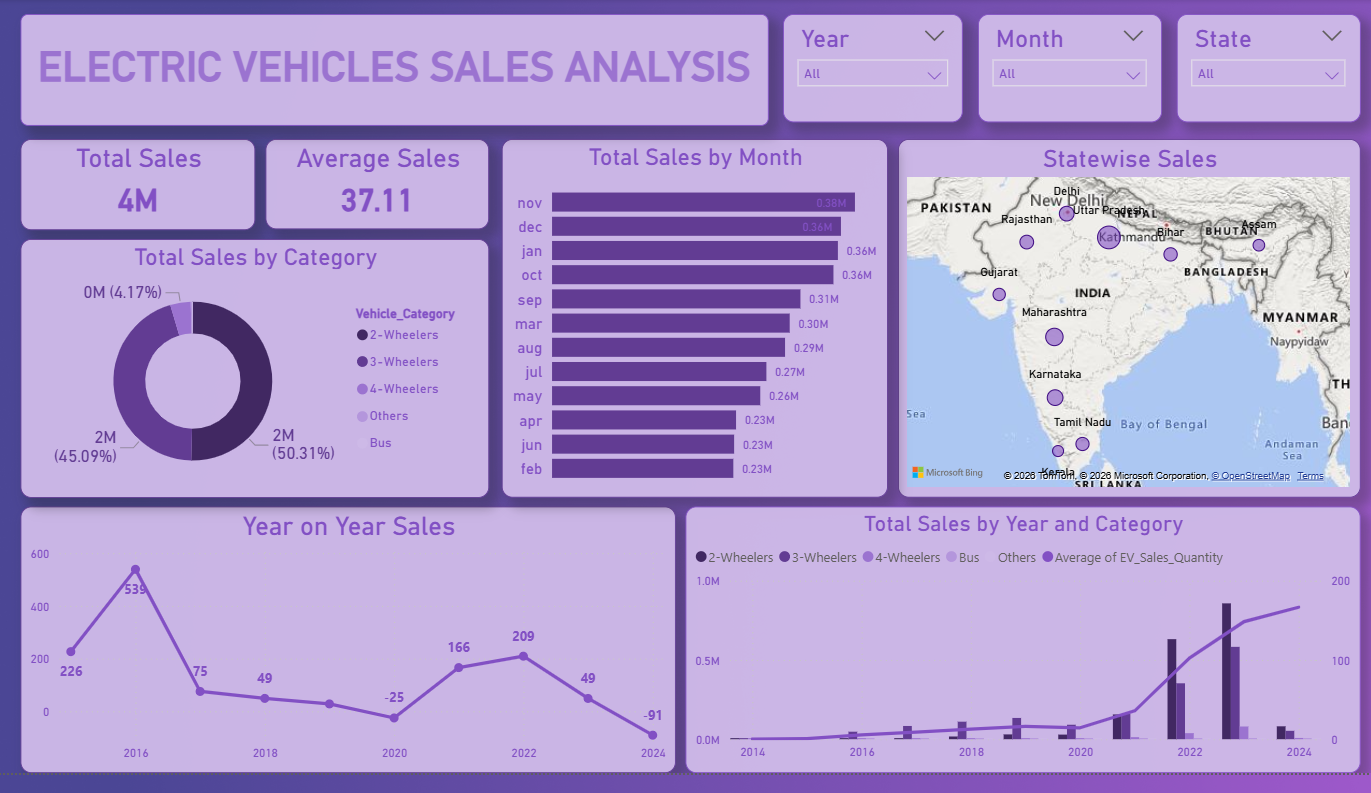

What the dashboard file says about the page in this screenshot:
{"tool":"powerbi","page":{"name":"Page 1","canvas":[1280,720],"ordinal":0},"visuals":[{"type":"card","title":"Total Sales","fields":{"Values":["Sum(ev.EV_Sales_Quantity)"]},"box":[20.9,130.2,218.6,84.9],"z":0},{"type":"card","title":"Average Sales","fields":{"Values":["Avg(ev.EV_Sales_Quantity)"]},"box":[248.8,130.2,208.1,83.7],"z":1000},{"type":"lineChart","title":"Year on Year Sales","fields":{"Category":["ev.Year"],"Y":["ev.YoY %"]},"box":[20.9,472.1,609.3,247.7],"z":2000},{"type":"map","title":"Statewise Sales","fields":{"Category":["ev.State"],"Size":["Sum(ev.EV_Sales_Quantity)"]},"box":[837.2,130.2,430.2,333.7],"z":3000},{"type":"donutChart","title":"Total Sales by Category","fields":{"Y":["Sum(ev.EV_Sales_Quantity)"],"Category":["ev.Vehicle_Category"]},"box":[20.9,223.3,436,240.7],"z":4000},{"type":"barChart","title":"Total Sales by Month","fields":{"Category":["ev.Month_Name"],"Y":["ev.Total_Sales"]},"box":[468.6,130.2,359.3,333.7],"z":5000},{"type":"lineClusteredColumnComboChart","title":"Total Sales by Year and Category","fields":{"Y":["ev.Total_Sales"],"Category":["ev.Year"],"Series":["ev.Vehicle_Category"],"Y2":["Avg(ev.EV_Sales_Quantity)"]},"box":[639.5,472.1,627.9,247.7],"z":6000},{"type":"textbox","box":[20.8,13.9,695.8,104.2],"z":7000},{"type":"slicer","fields":{"Values":["ev.Year"]},"box":[730.2,14,167.4,101.2],"z":8000},{"type":"slicer","fields":{"Values":["ev.Month_Name"]},"box":[911.6,14,170.9,101.2],"z":9000},{"type":"slicer","fields":{"Values":["ev.State"]},"box":[1096.5,14,170.9,101.2],"z":10000}]}

Visuals, with their boxes in screenshot pixels (x1, y1, x2, y2), scaled from the page's 1280x720 canvas onto the 1371x793 screenshot:
"Total Sales" card: <region>22, 143, 257, 237</region>
"Average Sales" card: <region>266, 143, 489, 236</region>
"Year on Year Sales" lineChart: <region>22, 520, 675, 792</region>
"Statewise Sales" map: <region>897, 143, 1358, 511</region>
"Total Sales by Category" donutChart: <region>22, 246, 489, 511</region>
"Total Sales by Month" barChart: <region>502, 143, 887, 511</region>
"Total Sales by Year and Category" lineClusteredColumnComboChart: <region>685, 520, 1358, 792</region>
textbox: <region>22, 15, 768, 130</region>
slicer - ev.Year: <region>782, 15, 961, 127</region>
slicer - ev.Month_Name: <region>976, 15, 1159, 127</region>
slicer - ev.State: <region>1174, 15, 1358, 127</region>
